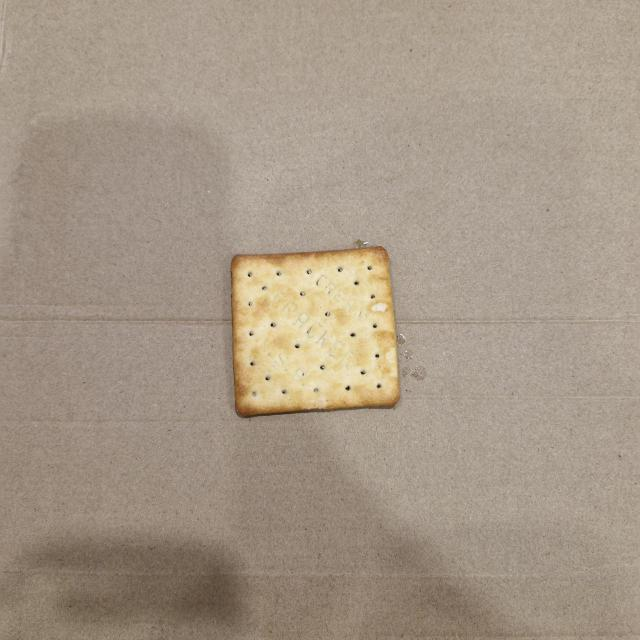food_waste: (226, 243, 415, 424)
